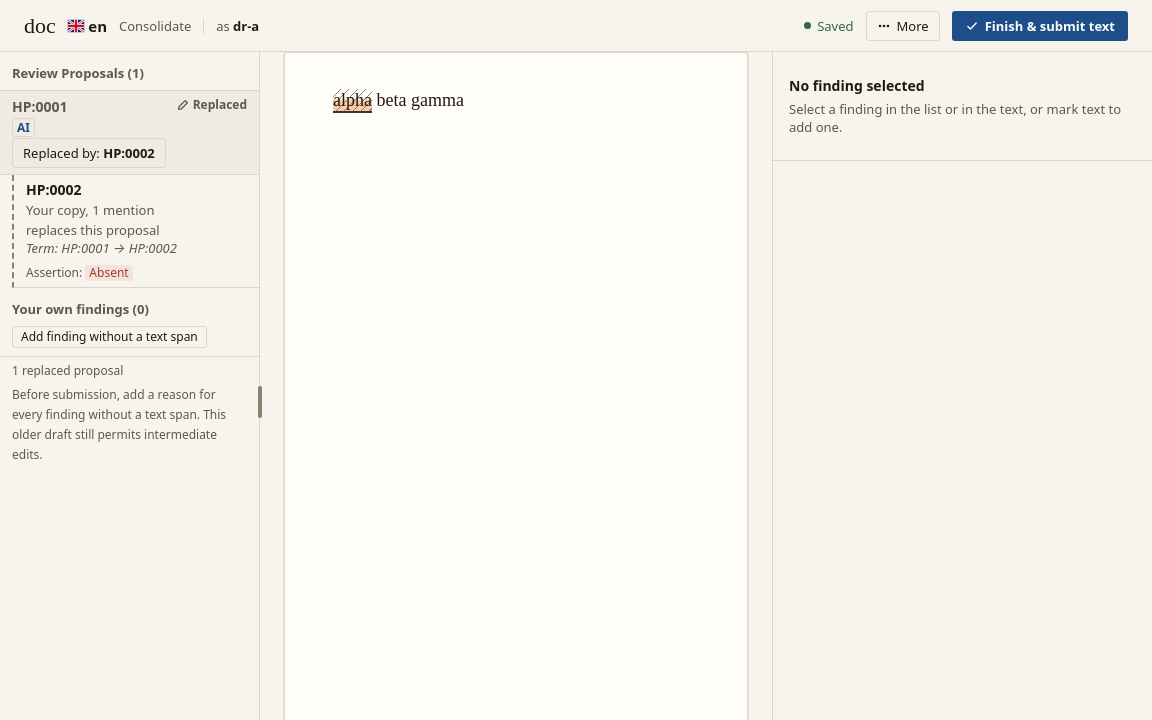
Test: A4/A5: review decisions and notes › confirms discarding an adopted edited copy before switching away from changed
Press j
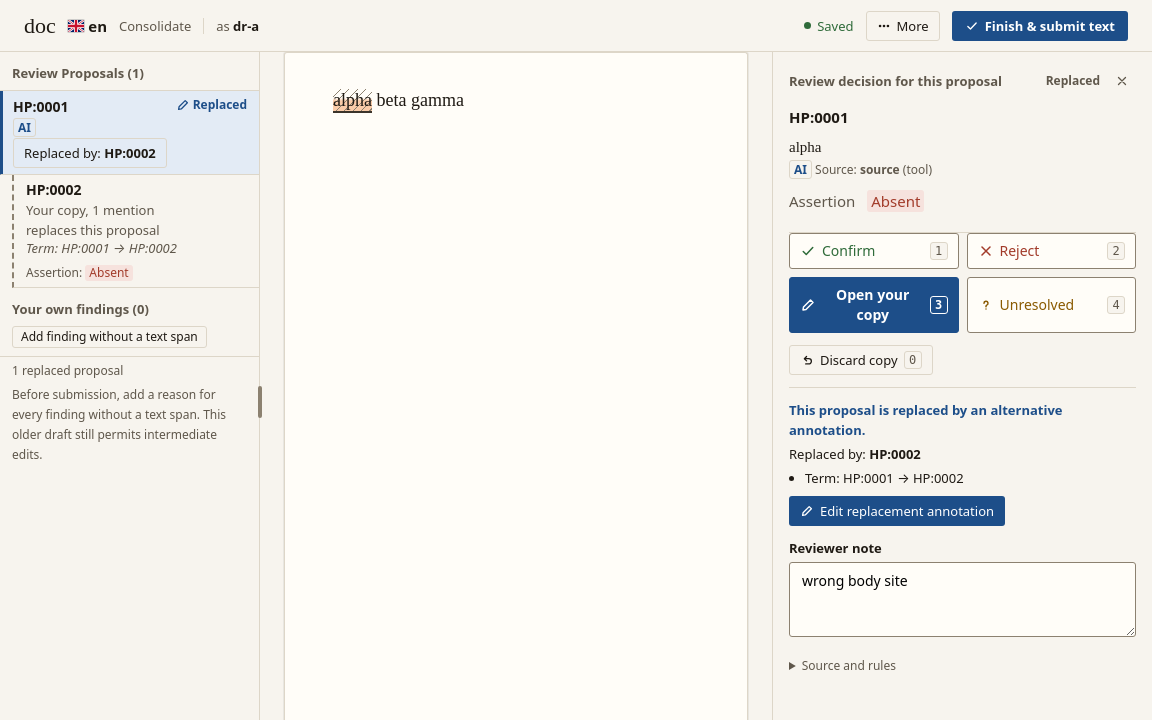
Press 2
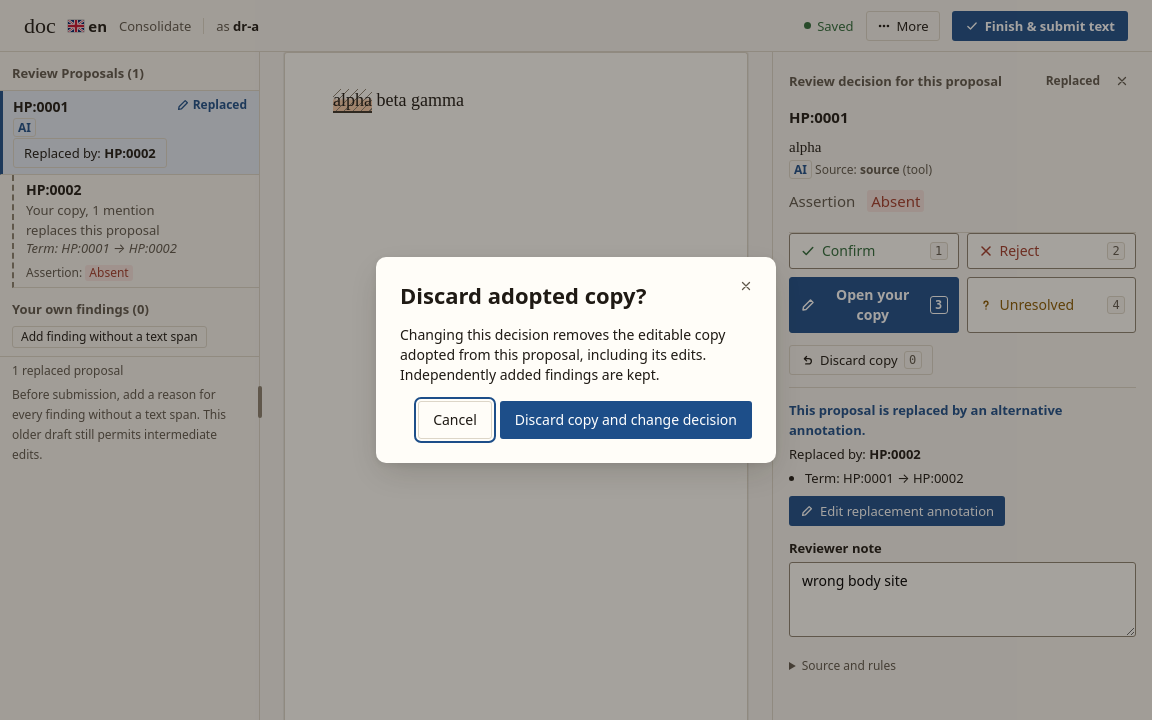
Click the button "Cancel".
click(455, 420)  # box top-left (418, 401), bottom-right (492, 439)
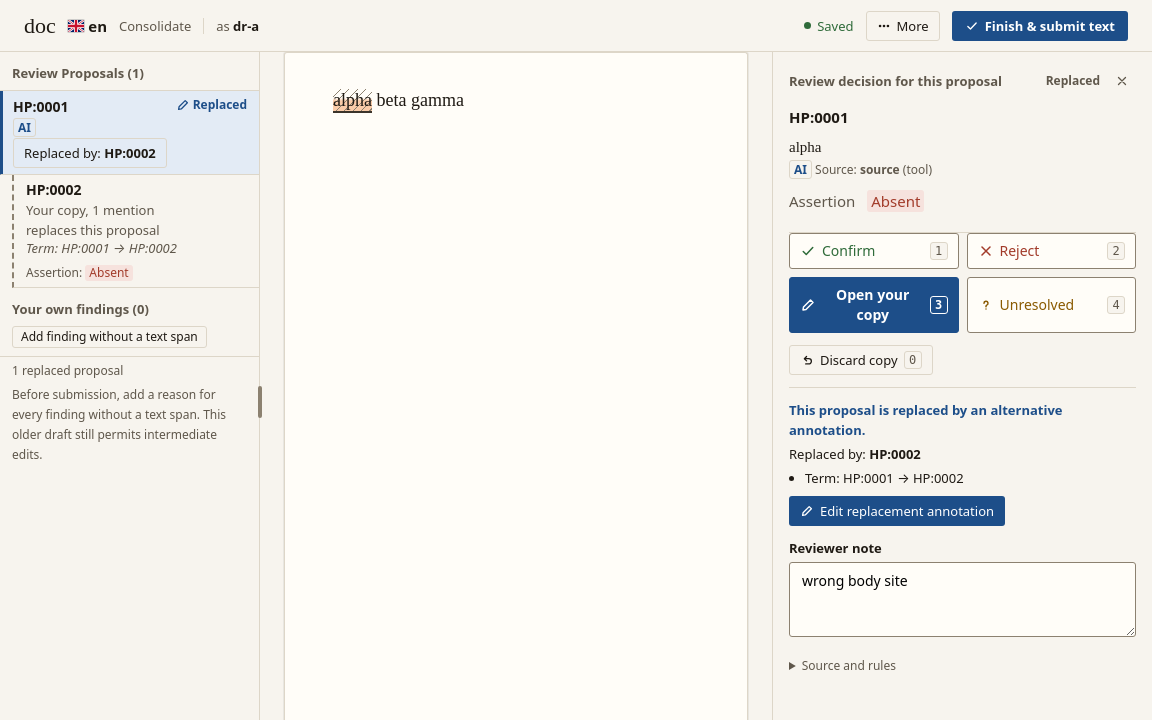
Press 2
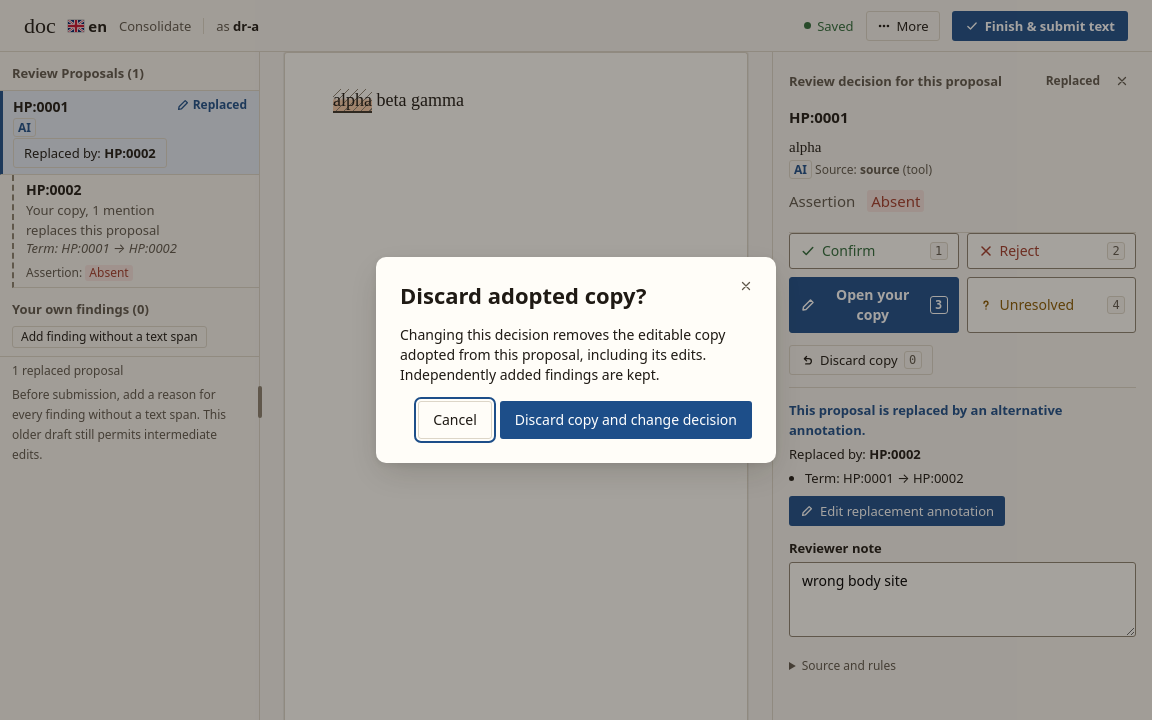
Click the button "Discard copy and change decision".
click(626, 420)  # box top-left (500, 401), bottom-right (752, 439)
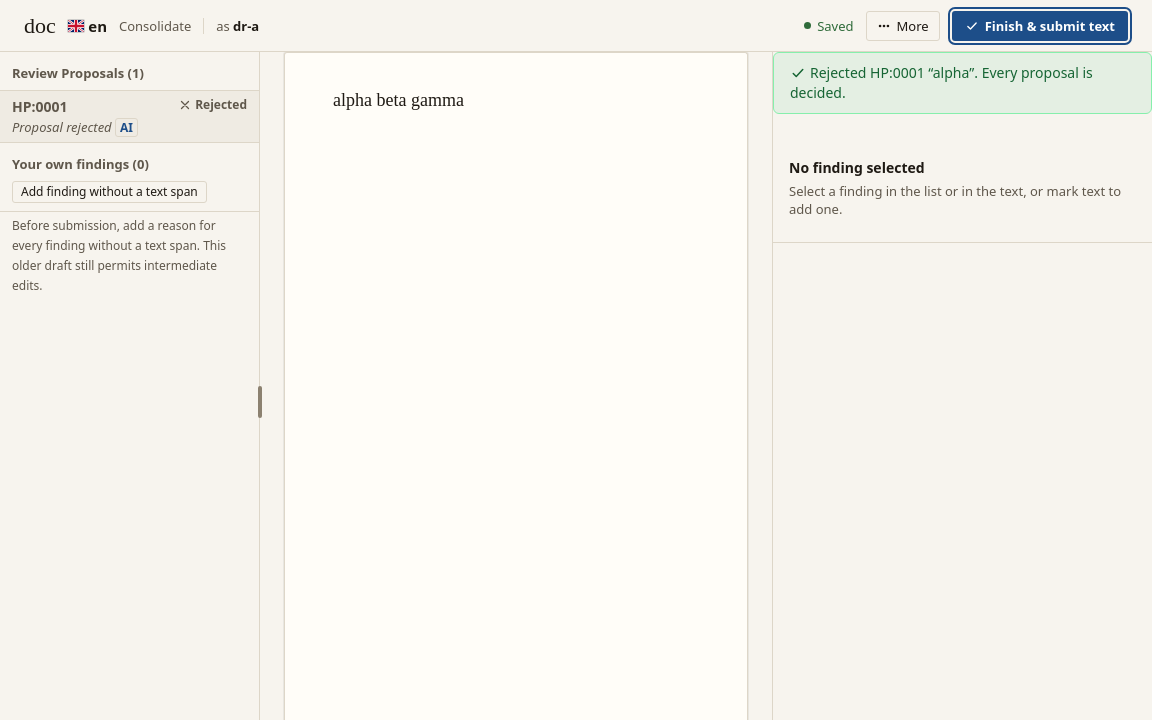
Now the button "HP:0002" is gone
